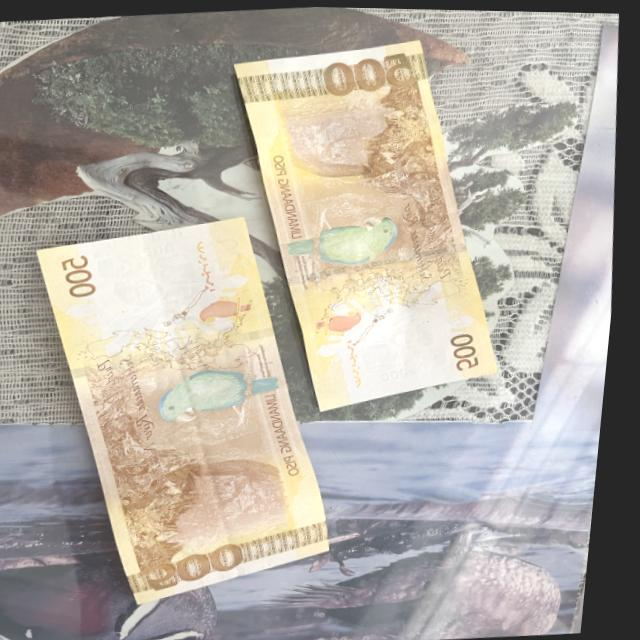500_big_parrot: (160, 359, 291, 428), (286, 204, 403, 274)
500_parrot_watermark: (200, 292, 259, 326), (323, 306, 371, 336)
value_watermark: (141, 238, 188, 262), (385, 360, 425, 384)
watermark: (348, 302, 471, 390), (98, 232, 216, 316)
